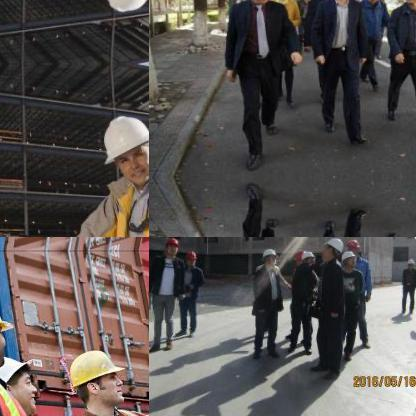Helmet: (96, 106, 148, 188), (68, 347, 126, 407), (0, 352, 36, 412), (95, 0, 148, 19), (319, 237, 344, 261), (258, 245, 278, 268), (162, 237, 181, 257), (182, 247, 198, 268), (338, 249, 356, 267), (345, 237, 361, 255), (299, 250, 315, 264), (404, 256, 414, 268)
